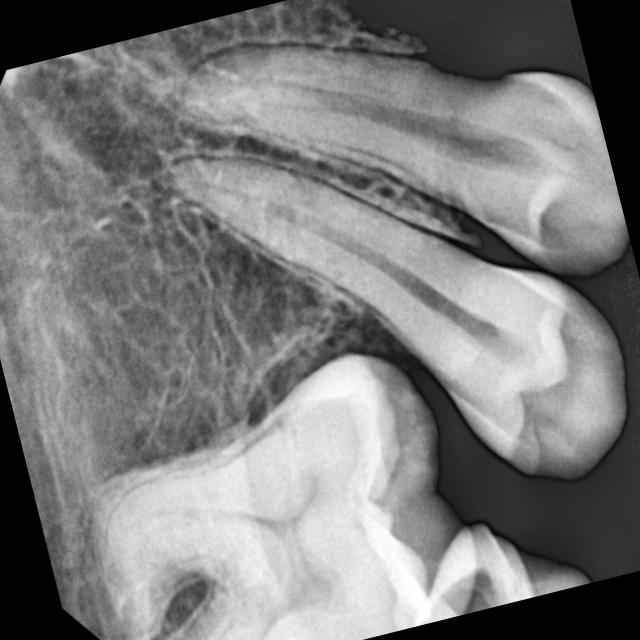Normal: (155, 142, 640, 504), (171, 30, 638, 273)
